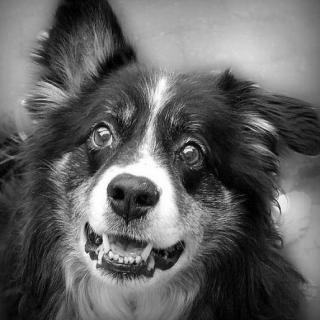dog: (14, 0, 320, 313)
nose: (106, 170, 160, 222)
